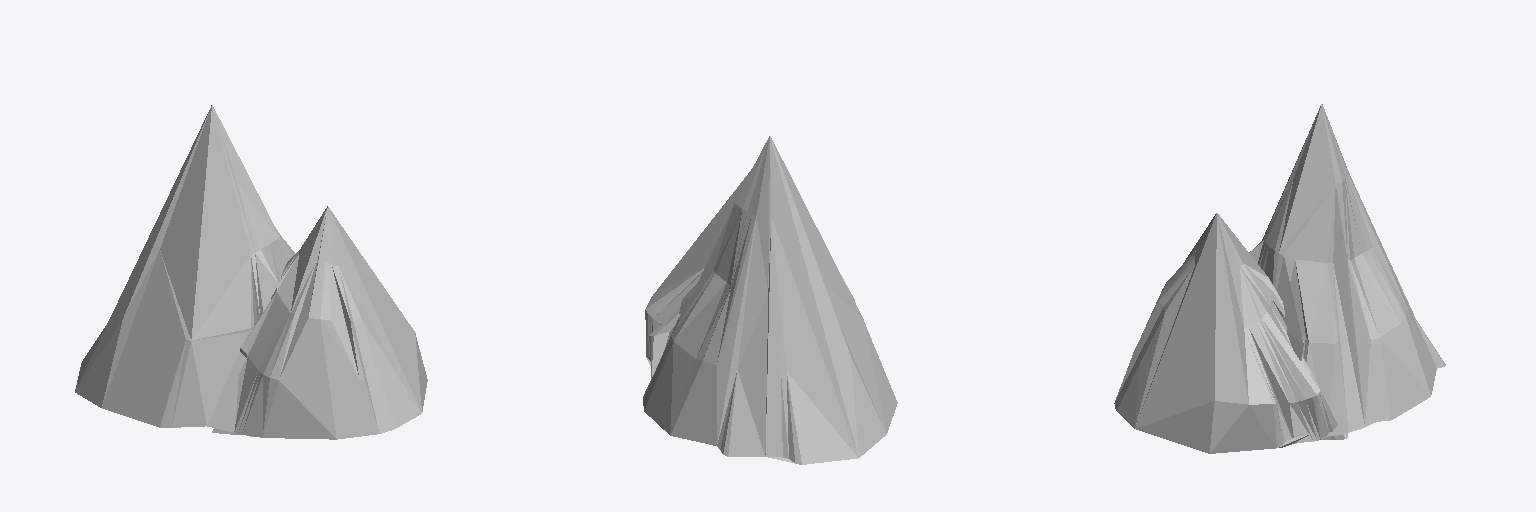
The model's file is Stalagmite3.obj.
3 renders of one model, left to right at view 1: azimuth 30°, elevation 25°; view 2: azimuth 150°, elevation 25°; view 3: azimuth 270°, elevation 25°, orthographic.
Visible parts, largest first — view 1: Cone; view 2: Cone; view 3: Cone.
Boxes of the visible parts, x1,y1,x2,y2 form: Cone: [75, 105, 427, 439]; Cone: [643, 136, 897, 464]; Cone: [1114, 104, 1445, 453].
Bounding box in the file's own units: 5.73 × 5.69 × 6.02.